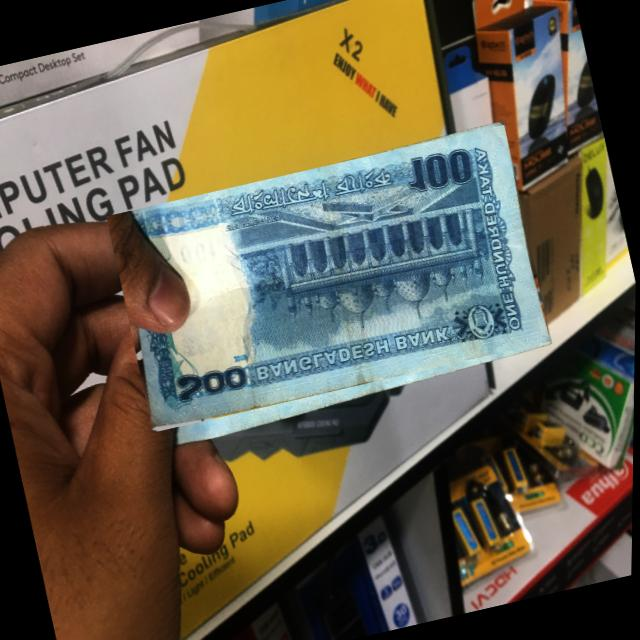Taka: (104, 125, 555, 432)
